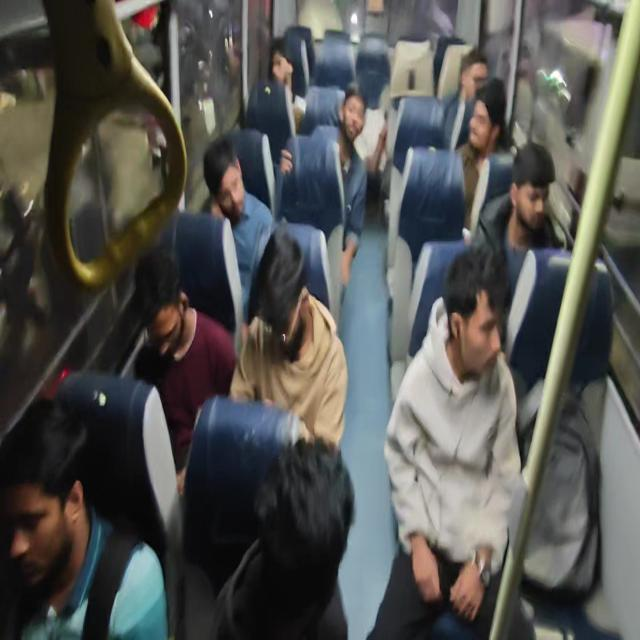person: (367, 241, 534, 638), (1, 396, 169, 639), (473, 141, 613, 390), (210, 436, 355, 638), (229, 222, 348, 449), (132, 246, 238, 494), (473, 141, 563, 300), (201, 134, 274, 321), (311, 87, 368, 287), (454, 76, 510, 235), (245, 40, 296, 174), (339, 86, 387, 206), (444, 48, 489, 150), (269, 39, 306, 134)
